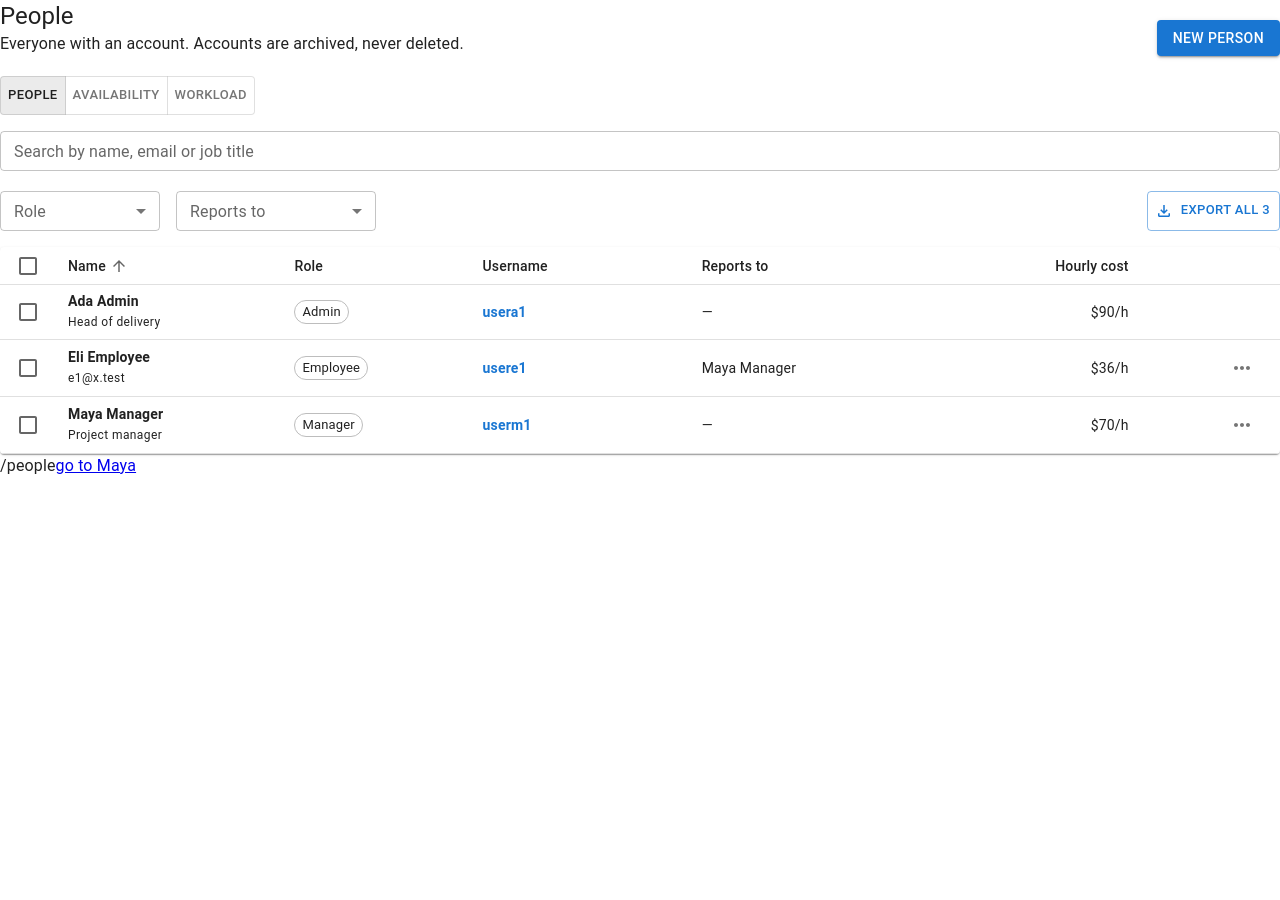
Test: PeoplePage as an admin › New person › does not ask a manager or an admin for a manager
Expected: the text "Eli Employee" is shown, [68,349,150,365]
Click the button "New person".
click(1218, 38)  # box [1157,20,1279,56]
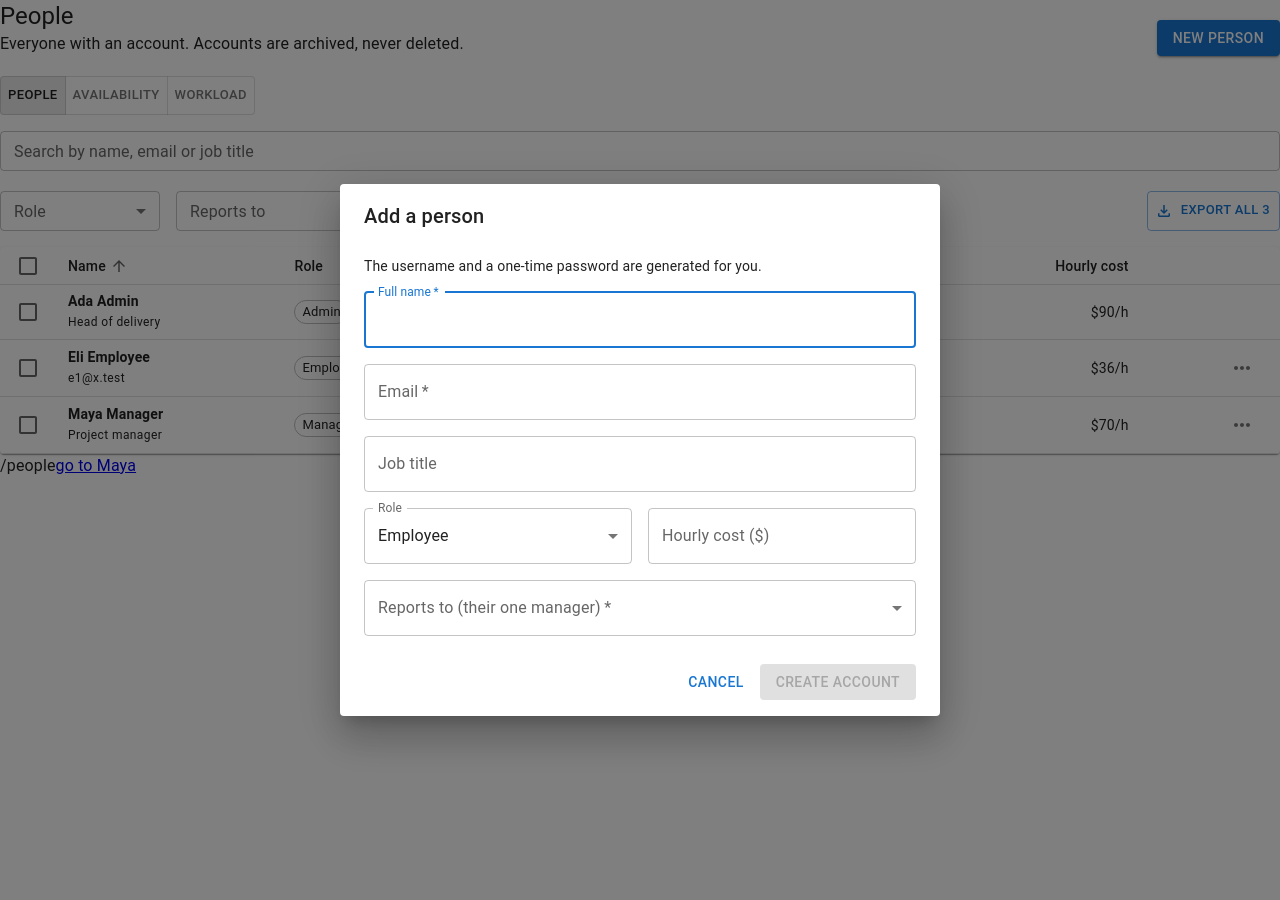
Type "Nia New" into the field labelled "Full name *".
click(640, 320); type("Nia New")  # box [364,292,916,348]
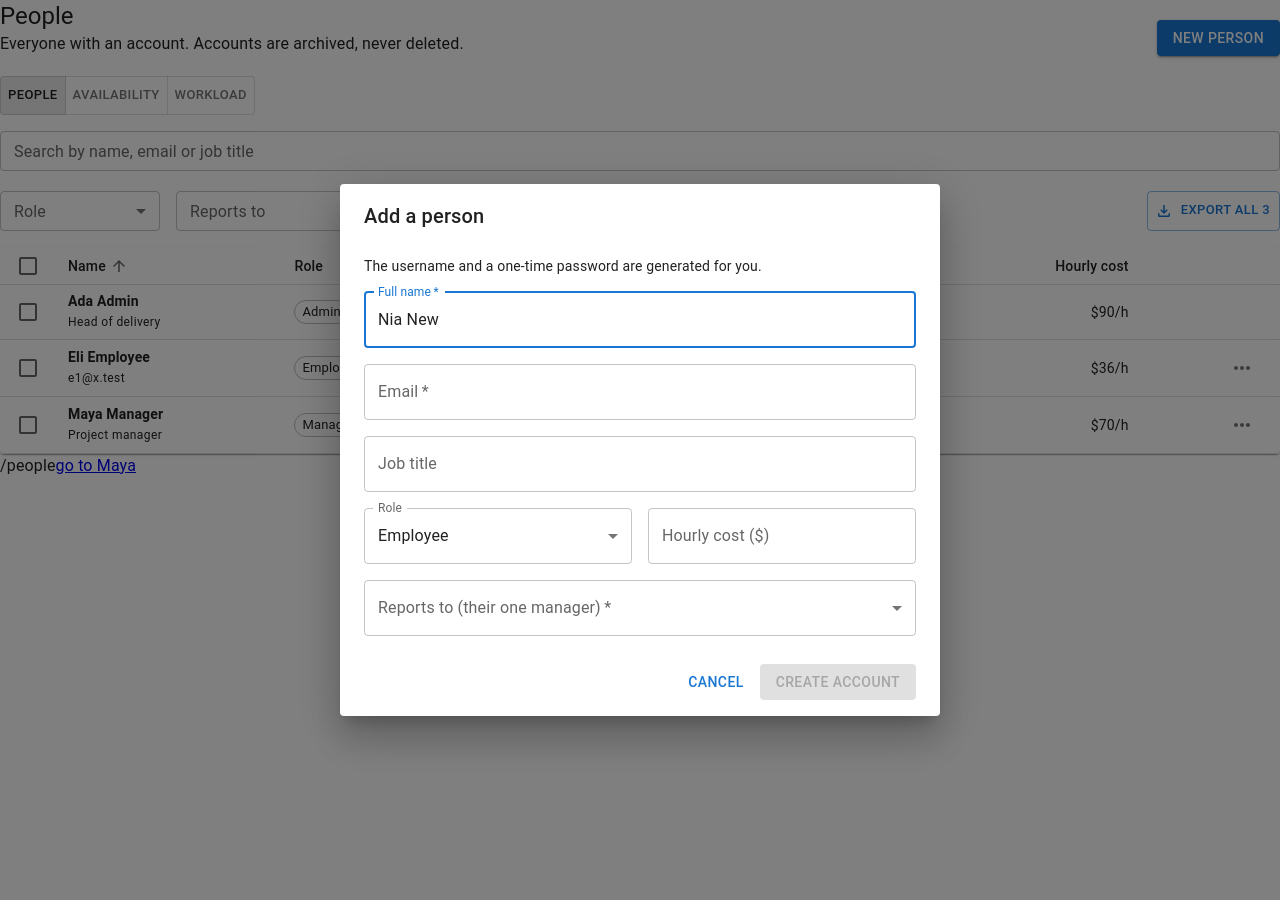
Type "nia@x.test" into the field labelled "Email *".
click(640, 392); type("nia@x.test")  # box [364,364,916,420]
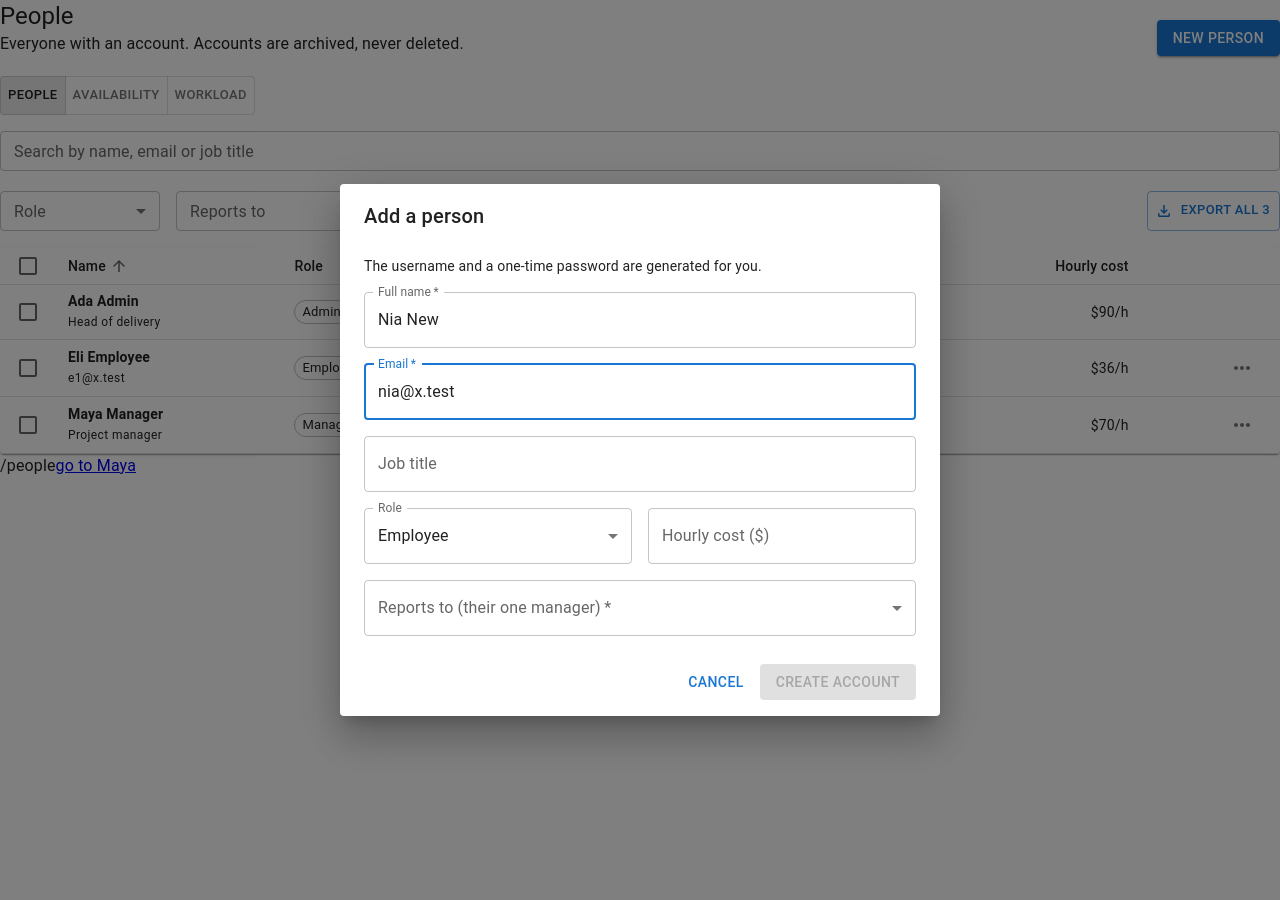
Click the dropdown named "Role".
click(413, 536)  # box [378,526,449,545]
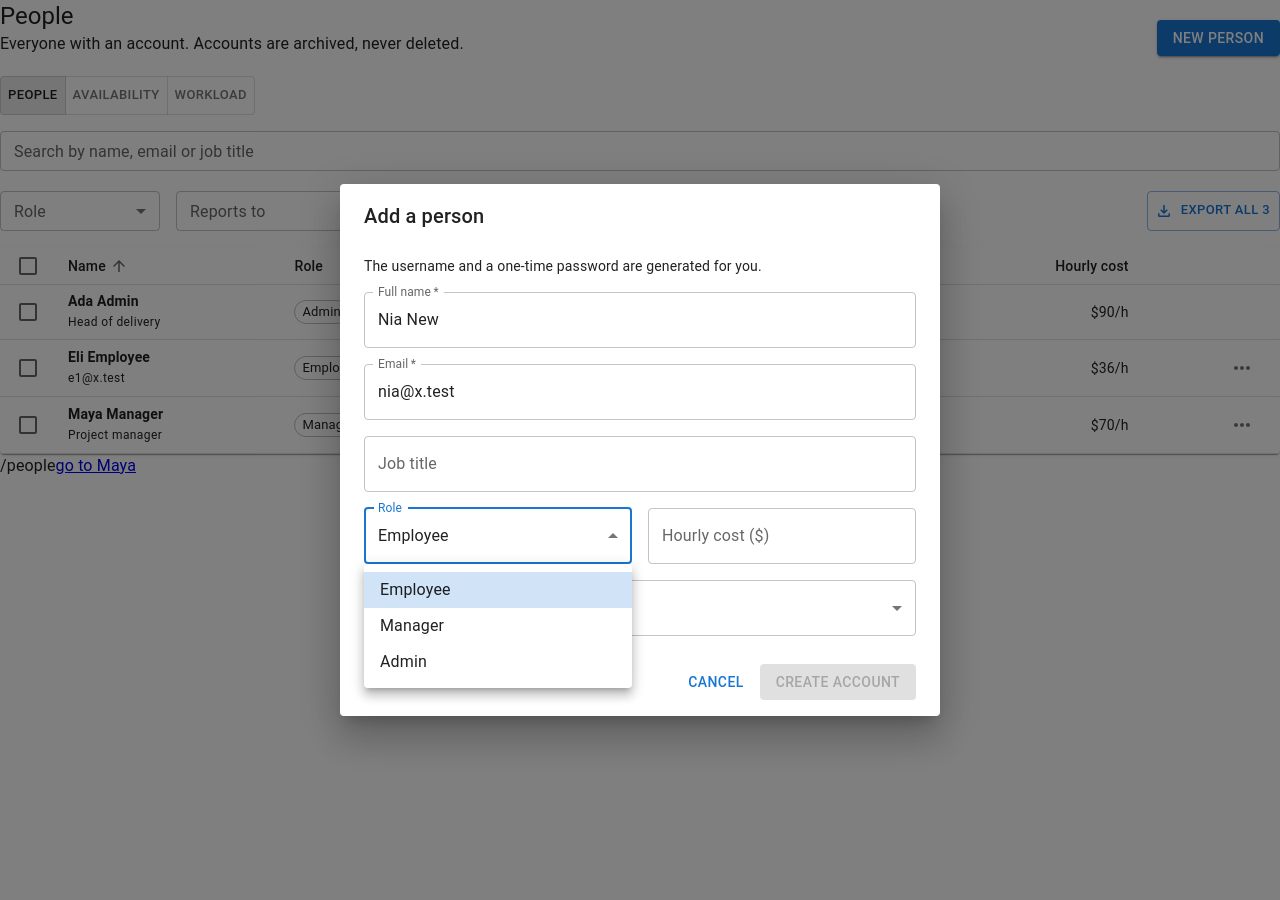
Click the option "Manager".
click(412, 626)  # box [380,616,444,635]
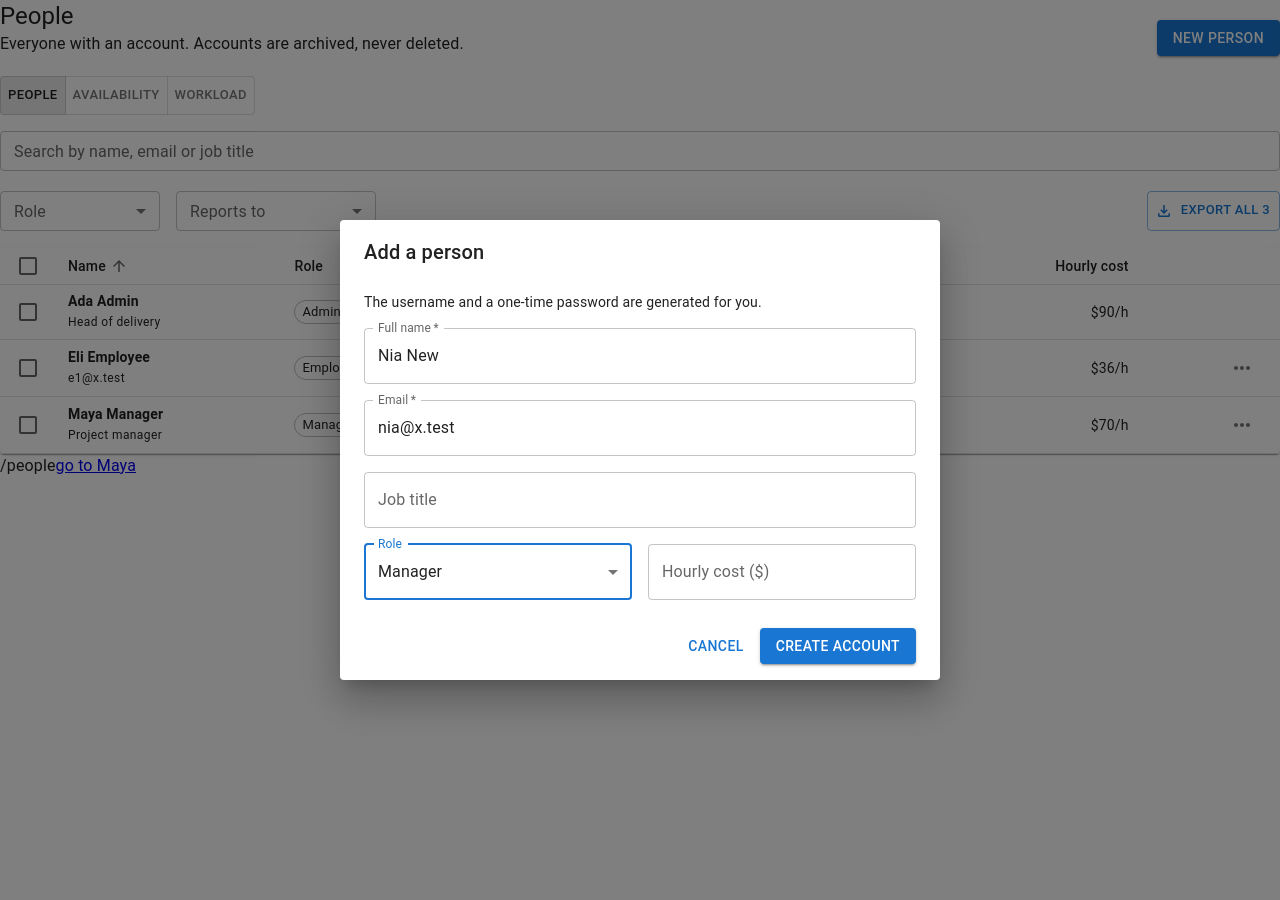
Expected: the button "Create account" is enabled, [760,628,916,664]
